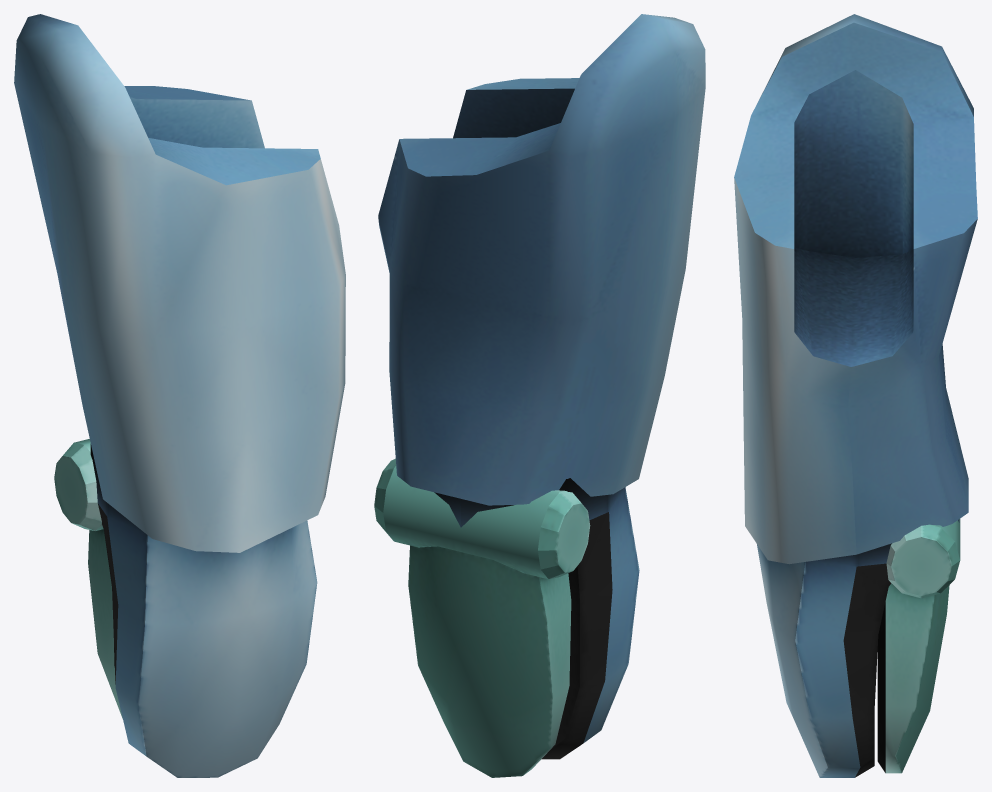
File: Forearm_Right.obj
3 views of the same model, side by side, from view 1: azimuth 30°, elevation 25°; view 2: azimuth 150°, elevation 25°; view 3: azimuth 270°, elevation 25° (orthographic). The views are drawn at different scales.
Visible parts, largest first — view 1: Hand_Right; view 2: Hand_Right; view 3: Hand_Right.
Boxes of the visible parts, x1=… form: Hand_Right: x1=14, y1=14, x2=345, y2=777; Hand_Right: x1=374, y1=14, x2=705, y2=777; Hand_Right: x1=734, y1=14, x2=977, y2=777.
Bounding box in the file's own units: 0.1136 × 0.2923 × 0.0932.
1 material, 1 textured.
